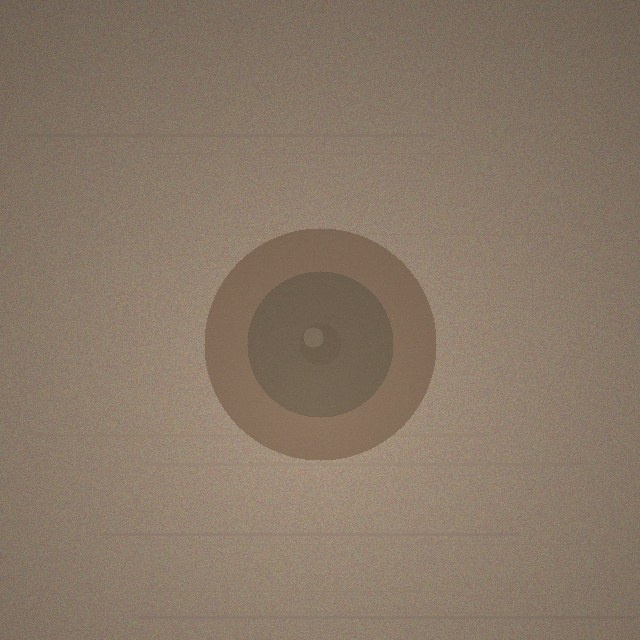good: (204, 228, 436, 460)
